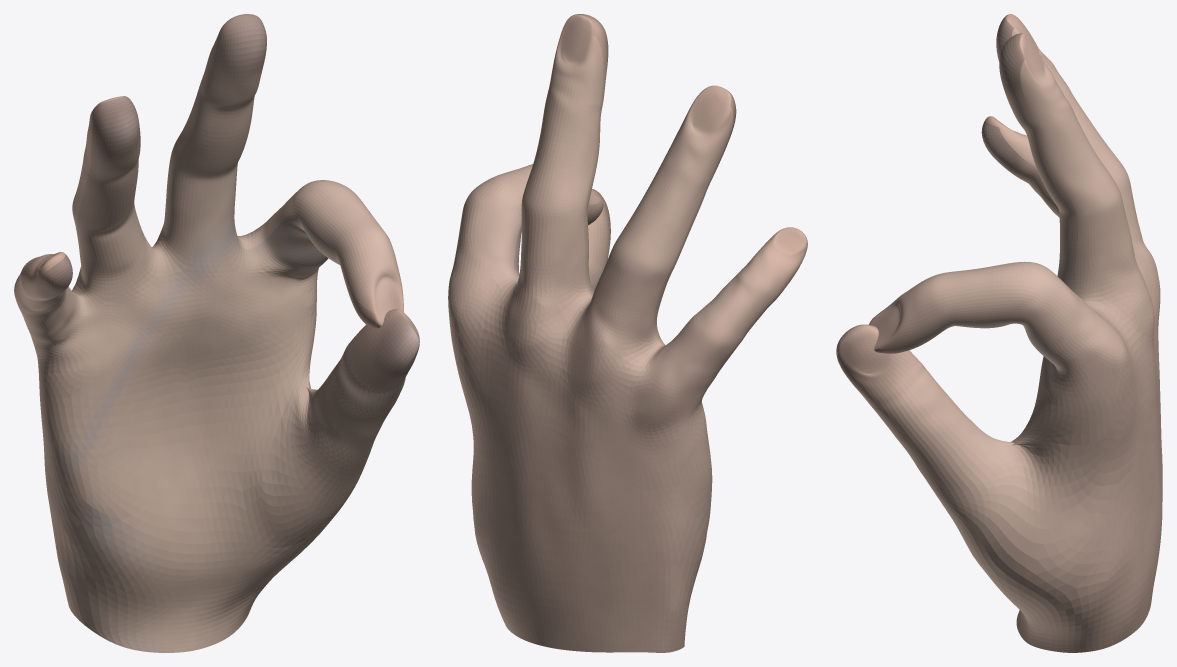
File: Main_OK.glb
The picture shows the model from 3 angles, left to right: view 1: azimuth 30°, elevation 25°; view 2: azimuth 150°, elevation 25°; view 3: azimuth 270°, elevation 25°; orthographic projection. The views are drawn at different scales.
Visible parts, largest first — view 1: Main_OK.glb; view 2: Main_OK.glb; view 3: Main_OK.glb.
Part boxes in pixels (x1,y1,x2,y2): Main_OK.glb: (14, 14, 419, 652); Main_OK.glb: (448, 14, 807, 652); Main_OK.glb: (836, 14, 1162, 652).
Bounding box in the file's own units: 0.096 × 0.1718 × 0.0829.
1 material, 1 textured.
